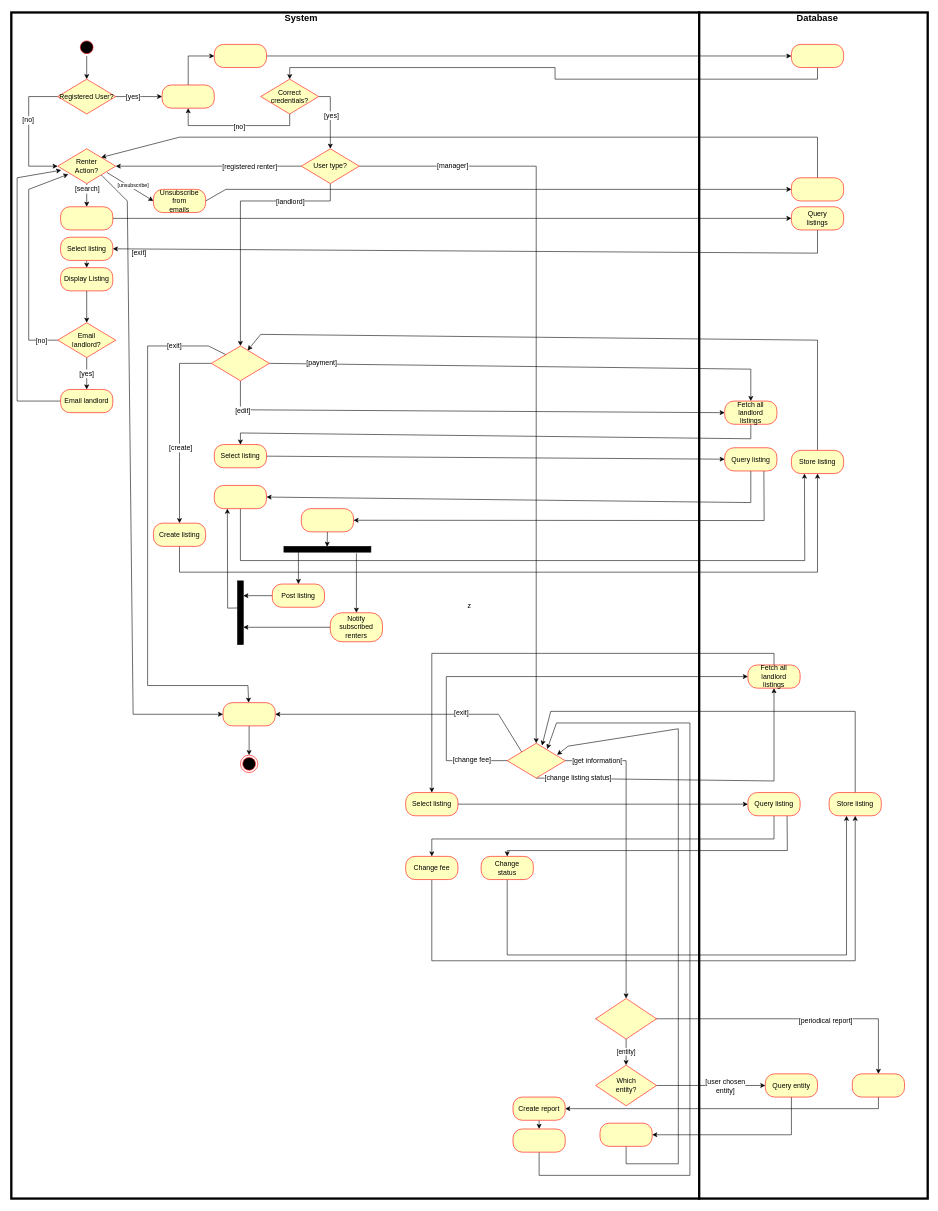
Image size: 938x1211. Some labels were removed from this diagram. Here are the shapes that lost their labels. From the top down, the centre of each, then its label:
At (240,56): "Verify login".
At (817,56): "Query credentials".
At (188,96): "Log In".
At (817,189): "Update renter subscription".
At (86,218): "Search for listing".
At (240,363): "Landlord Action?".
At (240,497): "Edit listing".
At (327,520): "Make payment".
At (248,714): "Exit System".
At (536,760): "Manager action?".
At (626,1018): "Which information?".
At (878,1085): "Query data for report".
At (538,1140): "Send report".
At (625,1134): "Display entity".
